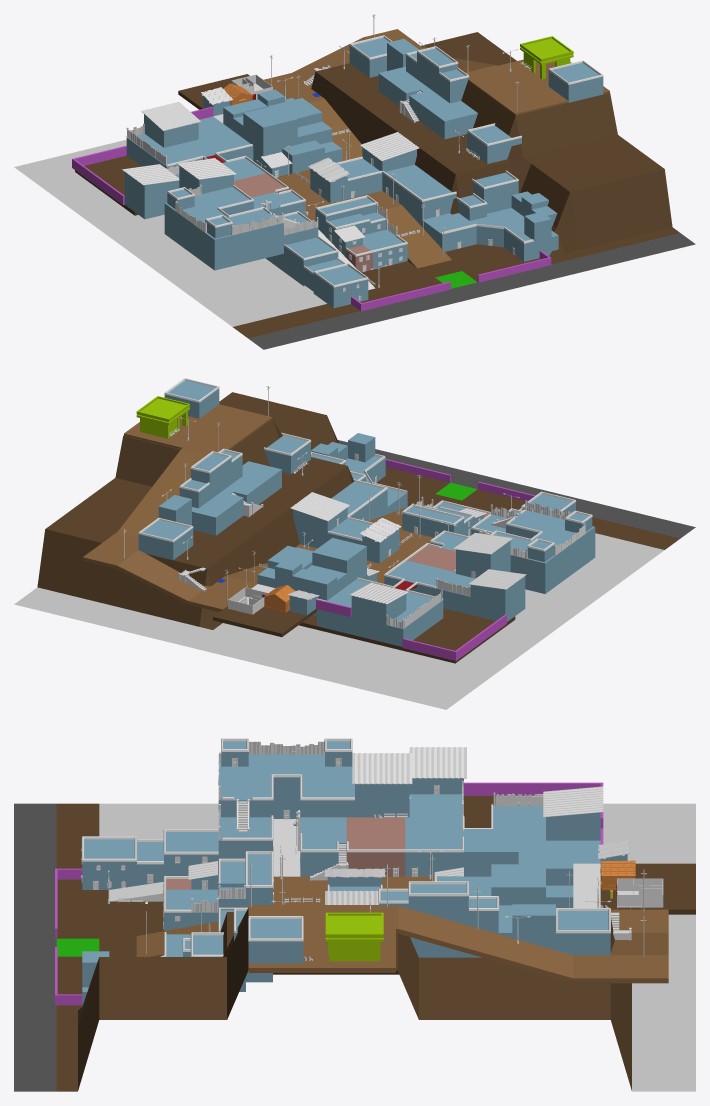
File: City_1C_Ex2.fbx
3 views of the same model, one above another, from view 1: azimuth 30°, elevation 25°; view 2: azimuth 150°, elevation 25°; view 3: azimuth 270°, elevation 25° (orthographic). The views are drawn at different scales.
Parts seen in each view (by area): view 1: 0_ground.001, path.001, house.002, house.011, house.044, house.050, house.021, house.028, house.010, house.045, house.042, house.058 (+37 smaller); view 2: 0_ground.001, path.001, house.044, house.021, house.050, house.011, 0_ground.002, house.010, house.042, 0_ground, house.028, store (+29 smaller); view 3: 0_ground.001, path.001, house.010, house.044, house.011, store, 0_ground, house.045, house.021, house.028, house.058, house.048 (+42 smaller).
Boxes of the visible parts, bbox=[...] form: 0_ground.001: bbox=[14, 32, 695, 349]; path.001: bbox=[263, 29, 496, 268]; house.002: bbox=[422, 208, 558, 261]; house.011: bbox=[164, 195, 249, 270]; house.044: bbox=[466, 59, 609, 115]; house.050: bbox=[378, 66, 477, 139]; house.021: bbox=[126, 116, 253, 168]; house.028: bbox=[243, 104, 297, 167]; house.010: bbox=[222, 158, 305, 215]; house.045: bbox=[313, 265, 368, 308]; house.042: bbox=[124, 172, 179, 219]; house.058: bbox=[548, 62, 603, 102]; 0_ground.001: bbox=[14, 392, 695, 709]; path.001: bbox=[82, 448, 433, 611]; house.044: bbox=[124, 404, 272, 453]; house.021: bbox=[317, 579, 443, 646]; house.050: bbox=[192, 461, 281, 535]; house.011: bbox=[510, 518, 595, 593]; 0_ground.002: bbox=[299, 608, 515, 663]; house.010: bbox=[384, 533, 466, 596]; house.042: bbox=[470, 576, 525, 621]; 0_ground: bbox=[213, 606, 316, 637]; house.028: bbox=[312, 538, 366, 585]; store: bbox=[136, 396, 189, 438]; 0_ground.001: bbox=[14, 803, 695, 1091]; path.001: bbox=[136, 876, 668, 983]; house.010: bbox=[300, 817, 463, 876]; house.044: bbox=[248, 905, 395, 972]; house.011: bbox=[219, 754, 352, 818]; store: bbox=[325, 912, 383, 961]; 0_ground: bbox=[600, 863, 695, 914]; house.045: bbox=[82, 839, 136, 889]; house.021: bbox=[493, 806, 600, 863]; house.028: bbox=[464, 829, 518, 876]; house.058: bbox=[248, 919, 303, 963]; house.048: bbox=[556, 911, 610, 955].
Size of the model in its own units: 250 by 71.22 by 250.
